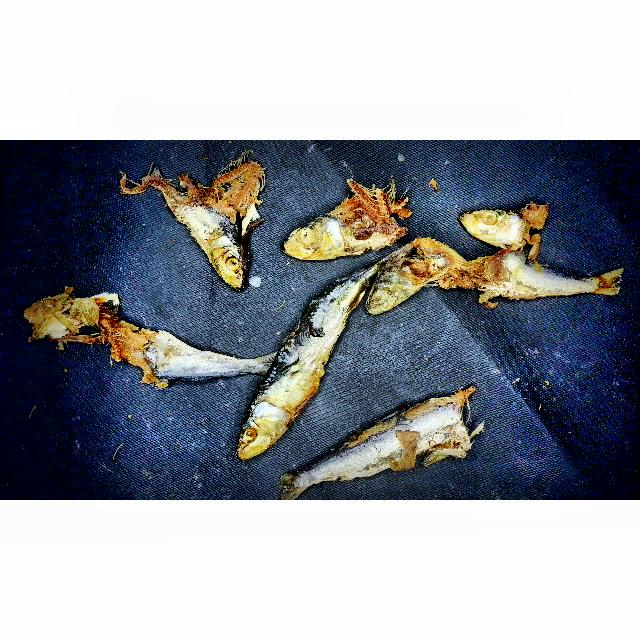Rejected_Body: (308, 377, 491, 492), (251, 276, 364, 390), (115, 315, 240, 400), (451, 248, 575, 320)
Rejected_Head: (156, 157, 265, 292), (284, 175, 414, 262), (15, 279, 115, 355), (361, 240, 450, 323), (226, 382, 300, 466), (457, 197, 546, 252)
Rejected_Tail: (573, 257, 633, 310), (267, 456, 327, 499), (231, 339, 281, 385)
